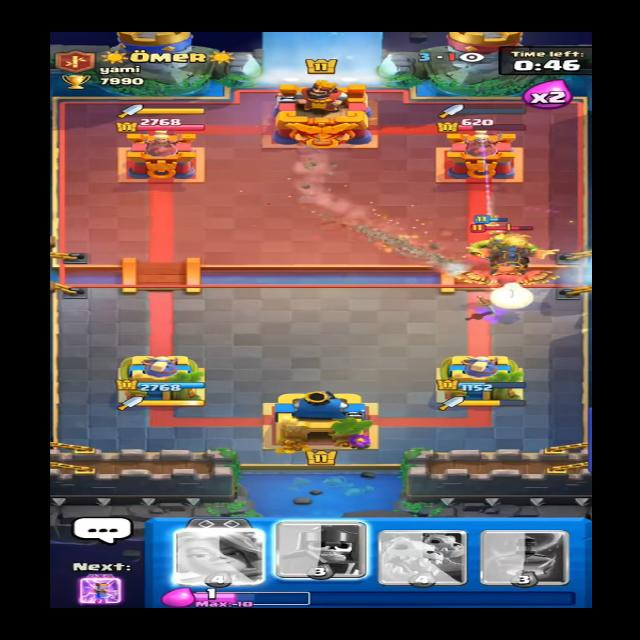goblin-demolisher: (464, 218, 544, 260)
trail: (358, 208, 455, 276)
